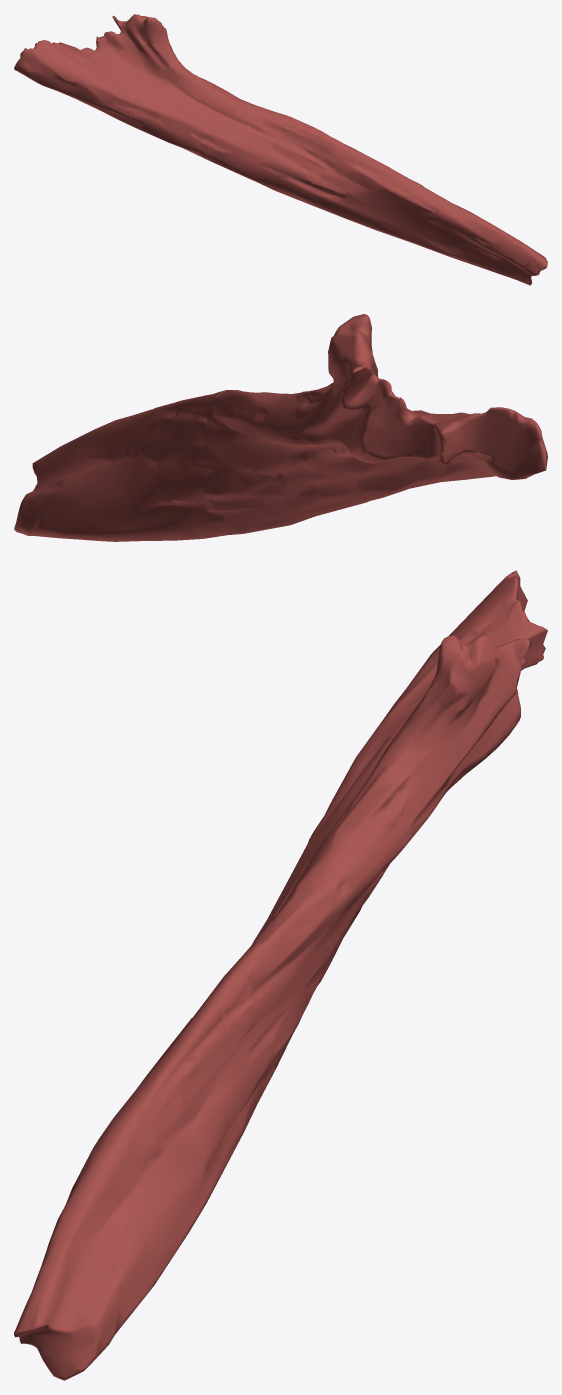
The model's file is FMA46111.glb.
The picture shows the model from 3 angles, top to bottom: view 1: azimuth 30°, elevation 25°; view 2: azimuth 150°, elevation 25°; view 3: azimuth 270°, elevation 25°; orthographic projection. The views are drawn at different scales.
Visible parts, largest first — view 1: FMA46111; view 2: FMA46111; view 3: FMA46111.
Part boxes in pixels (x1=…): FMA46111: x1=14, y1=14, x2=547, y2=285; FMA46111: x1=14, y1=314, x2=547, y2=541; FMA46111: x1=14, y1=570, x2=547, y2=1380.
Bounding box in the file's own units: 0.0445 × 0.0275 × 0.0273.
